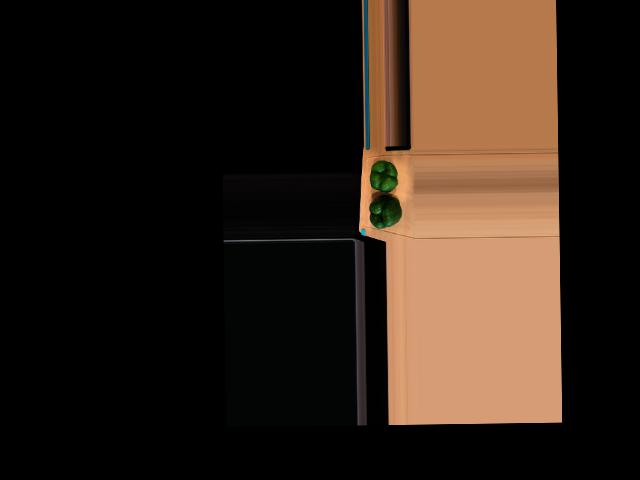bell_pepper: (369, 160, 401, 193)
